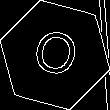O_S: (28, 25, 82, 85)
